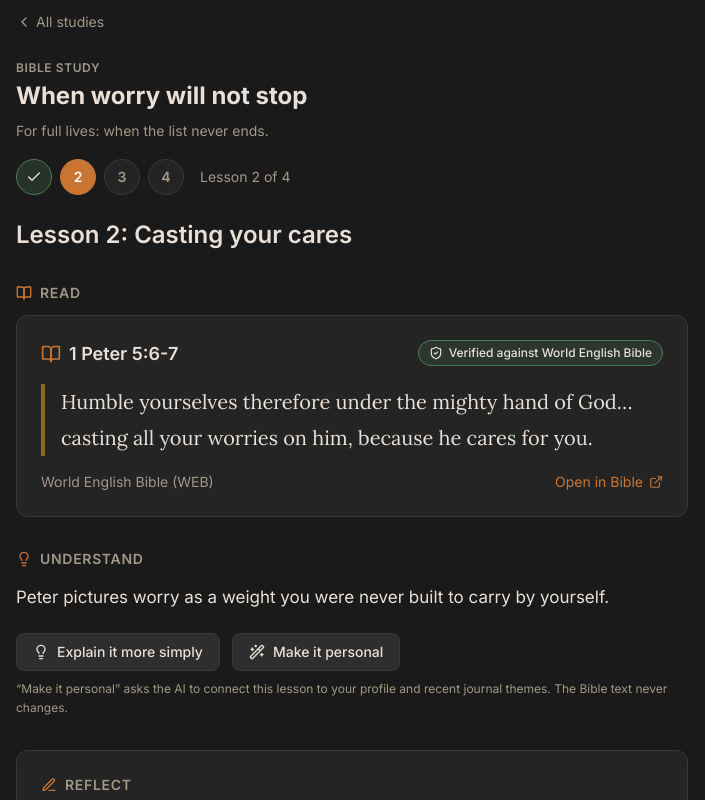
Test: StudyPage › "Explain it more simply" swaps in the simpler explanation
Click the button "Explain it more simply" at (118, 652), box [16,633,220,671]
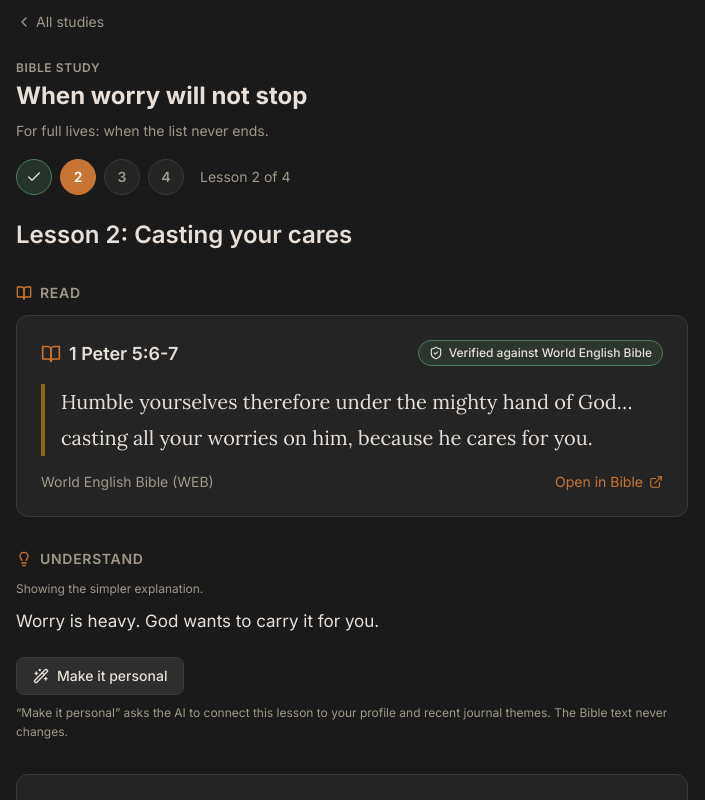
Expected: the text "Worry is heavy. God wants to carry it for you." is shown, [16,611,379,631]
Expected: the text "Peter pictures worry as a weight you were never built to carry by yourself." is gone
Expected: the text "Showing the simpler explanation." is shown, [16,581,203,596]
